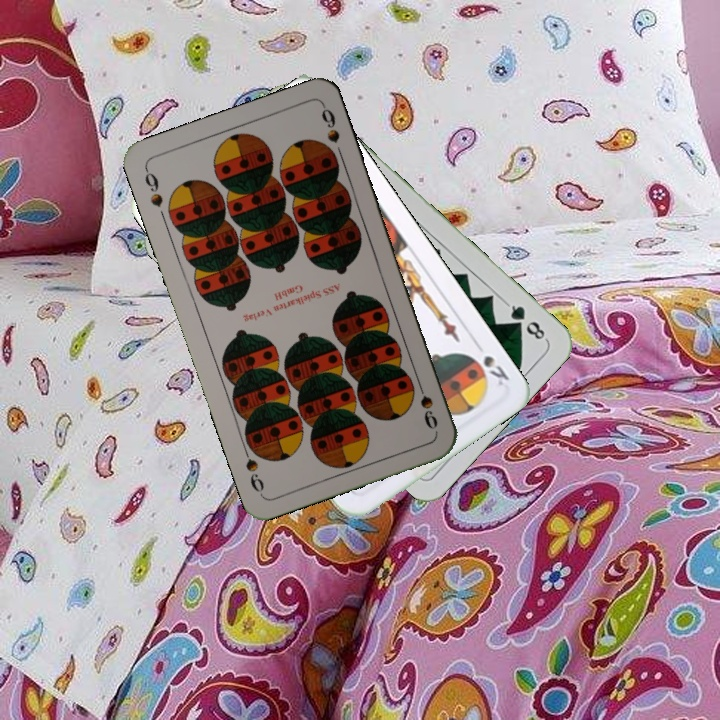G8: (502, 299, 550, 343)
S9: (412, 376, 440, 432), (140, 164, 166, 210)
SK: (470, 337, 512, 389)
